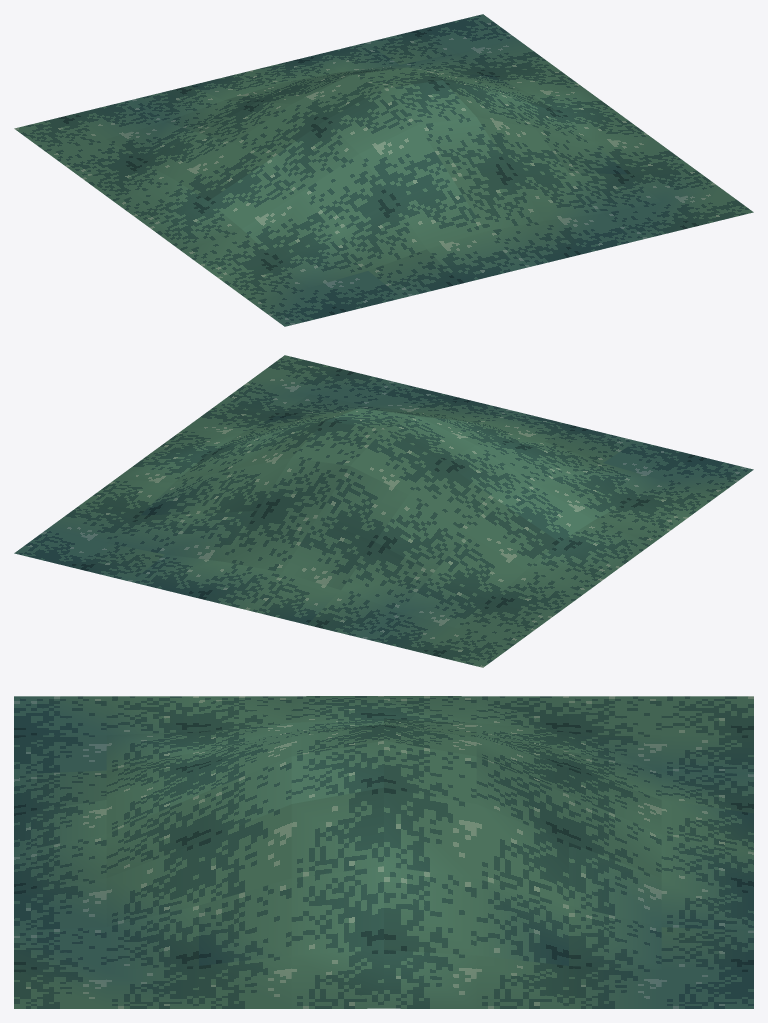
File: mter.hill__low.glb
3 views of the same model, one above another, from view 1: azimuth 30°, elevation 25°; view 2: azimuth 150°, elevation 25°; view 3: azimuth 270°, elevation 25° (orthographic). The views are drawn at different scales.
Visible parts, largest first — view 1: kit_shell_hill; view 2: kit_shell_hill; view 3: kit_shell_hill.
Part boxes in pixels (x1,y1,x2,y2): kit_shell_hill: [14, 14, 753, 326]; kit_shell_hill: [14, 355, 753, 667]; kit_shell_hill: [14, 696, 753, 1008].
Size of the model in its own units: 12 by 2 by 12.
Materials: 1 (1 with a texture image).
